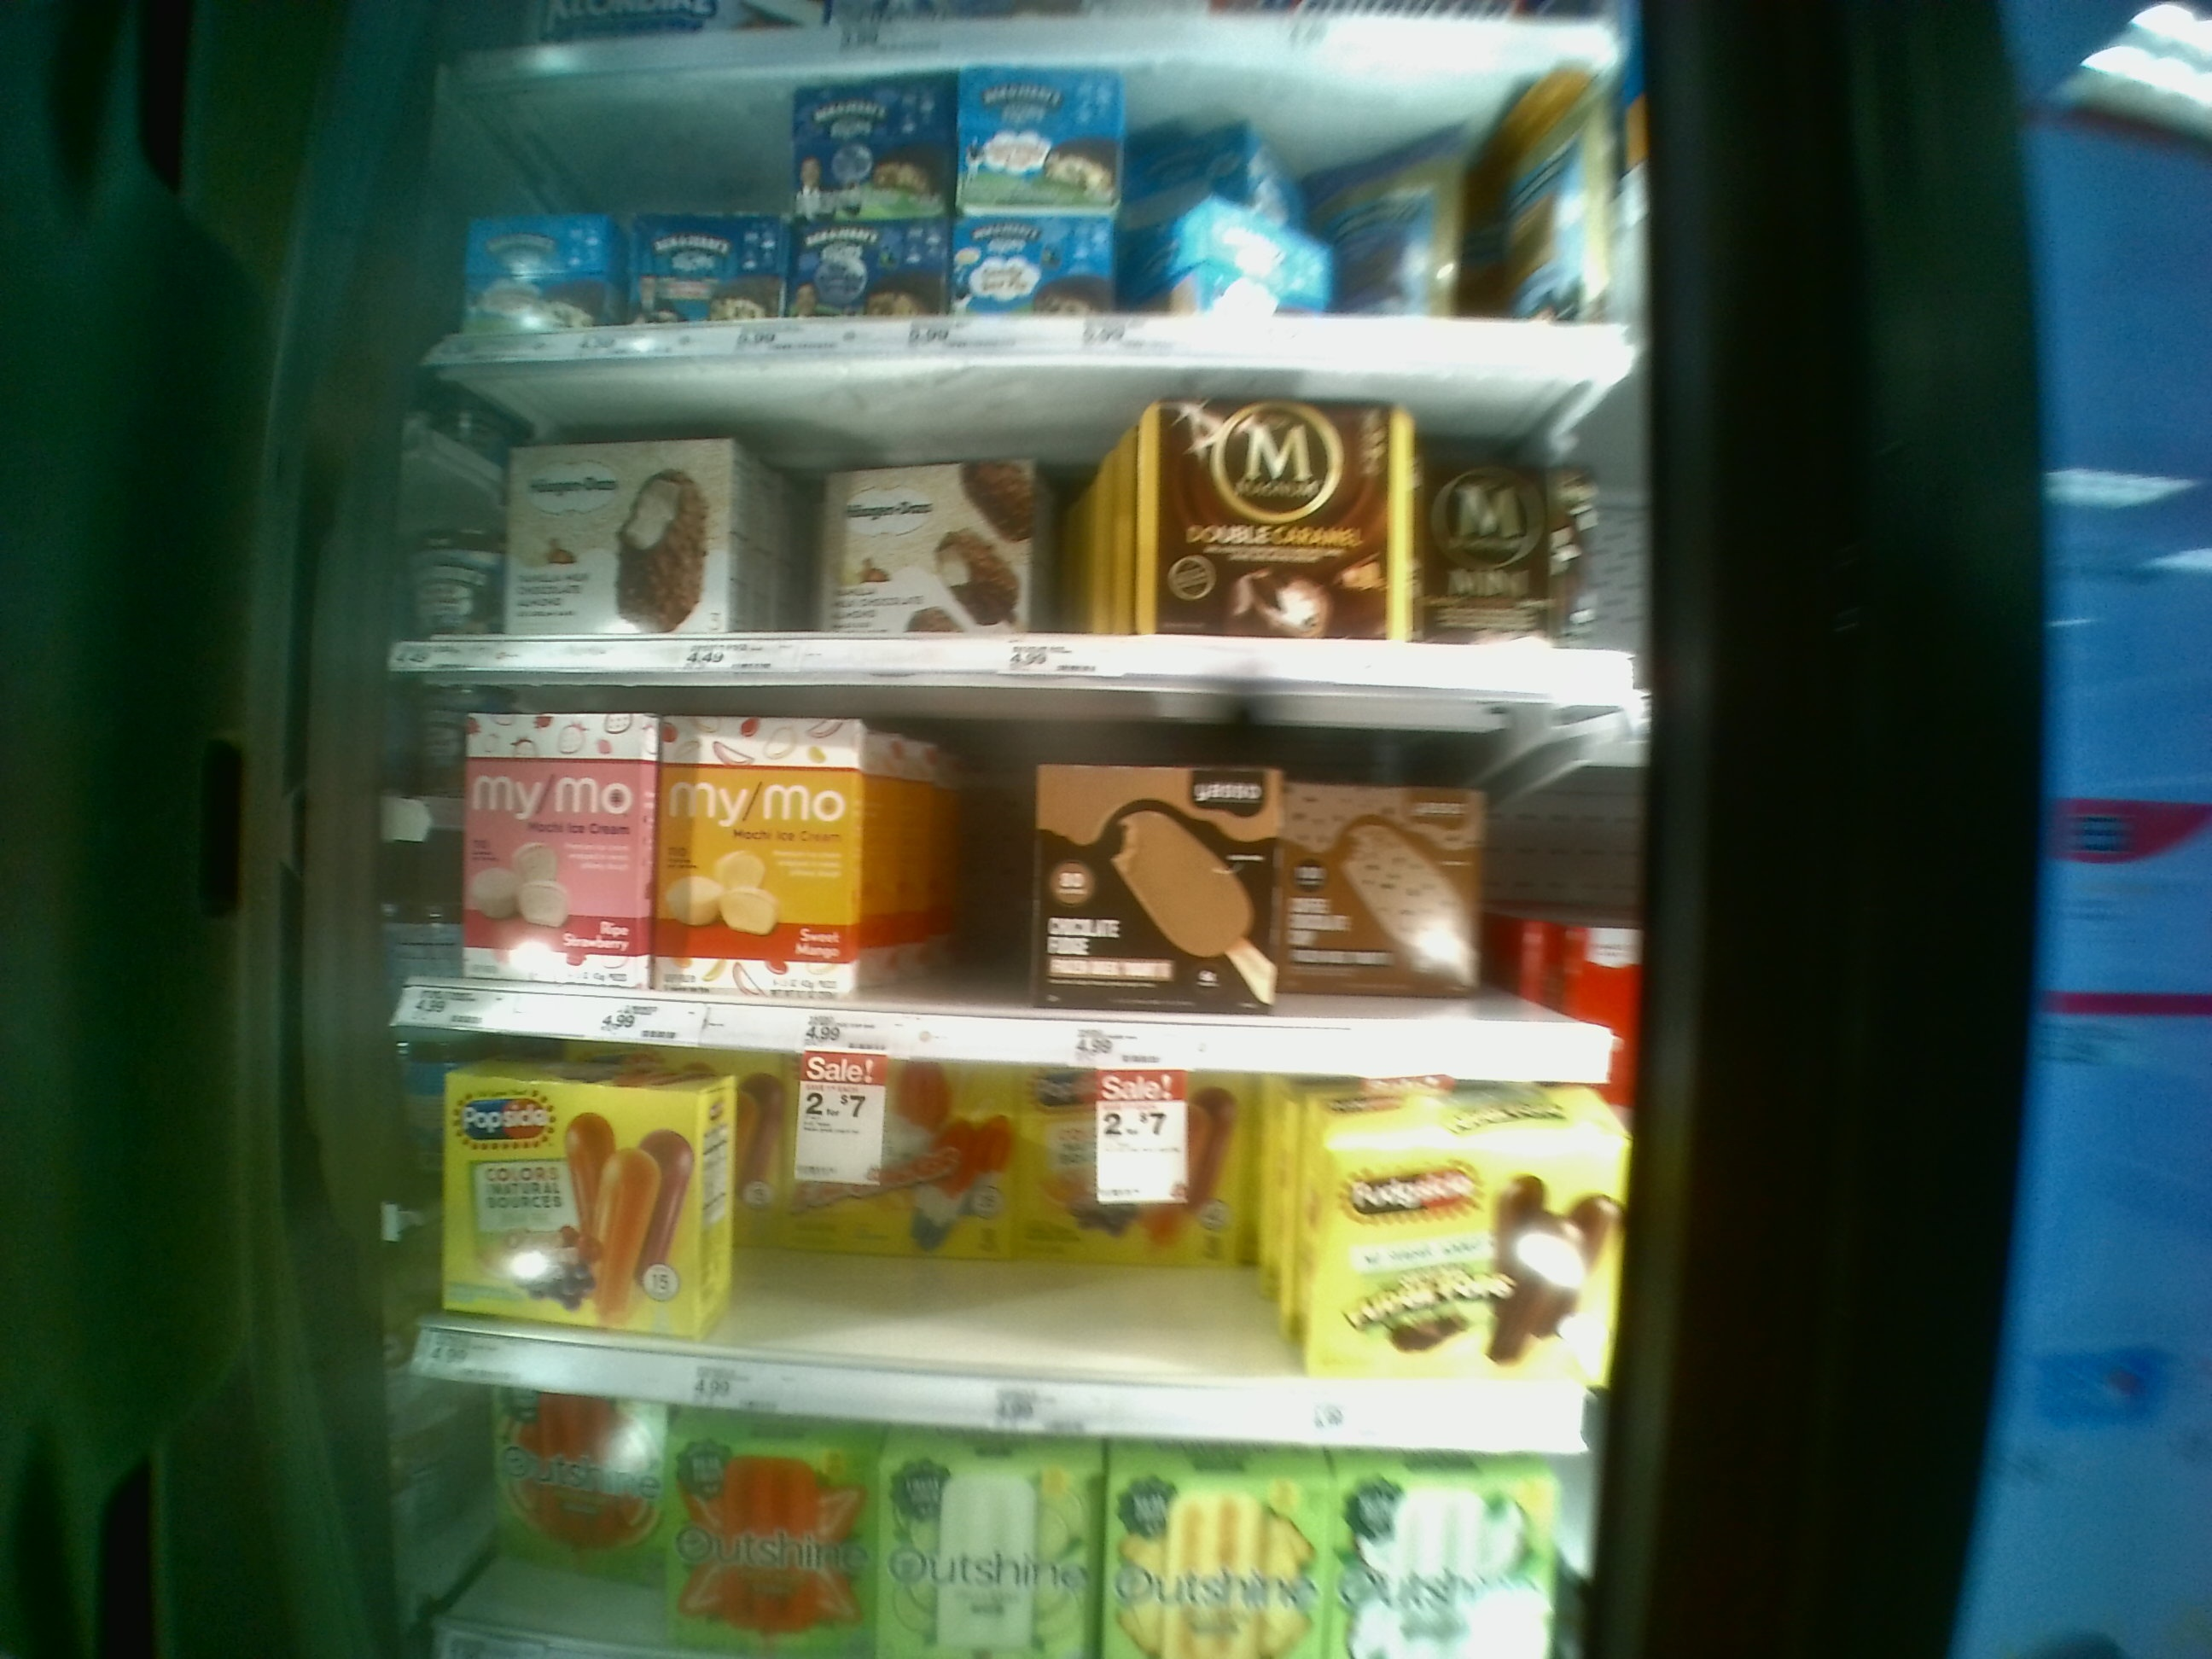ice-cream-shelf: (383, 692, 1641, 1082), (380, 357, 1644, 687)
